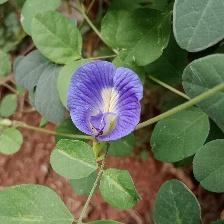shankupushpam: (65, 59, 146, 145)
